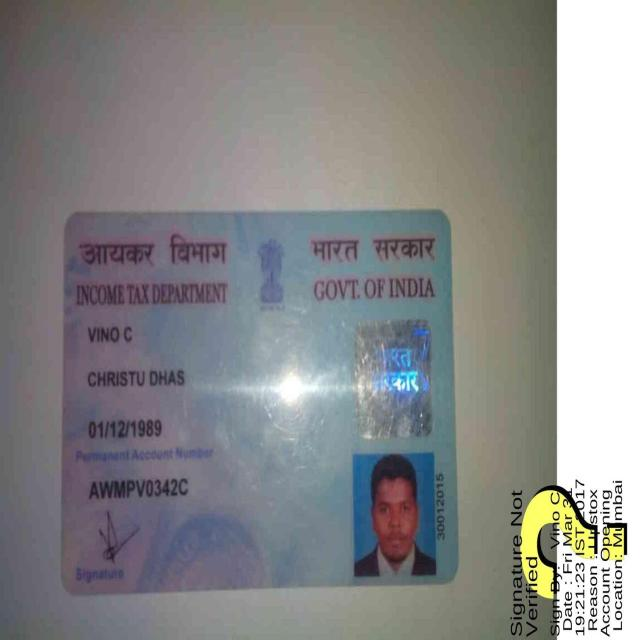pan_card: (63, 214, 455, 593)
